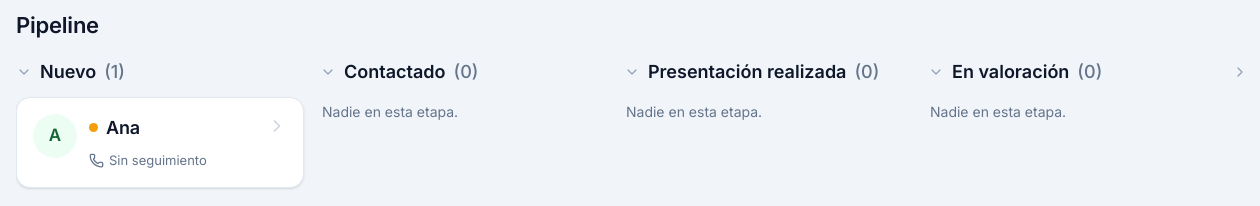
Test: colapso de secciones › una etapa expandida se puede plegar
Expected: the text "Ana" is shown, [106,114,140,141]
Click the button "Nuevo (1)" at (68, 72), box [16,58,304,85]
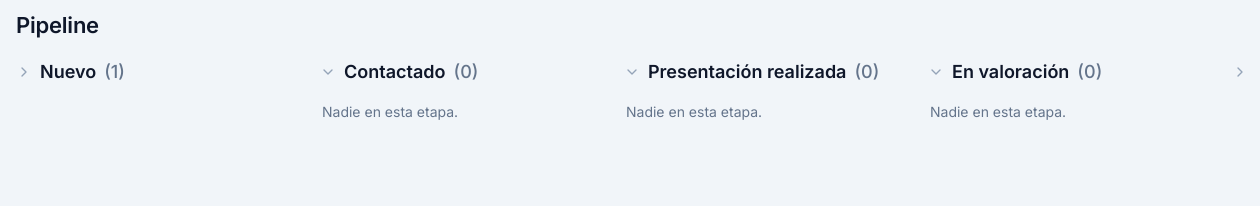
Result: the button "Ana" is gone
